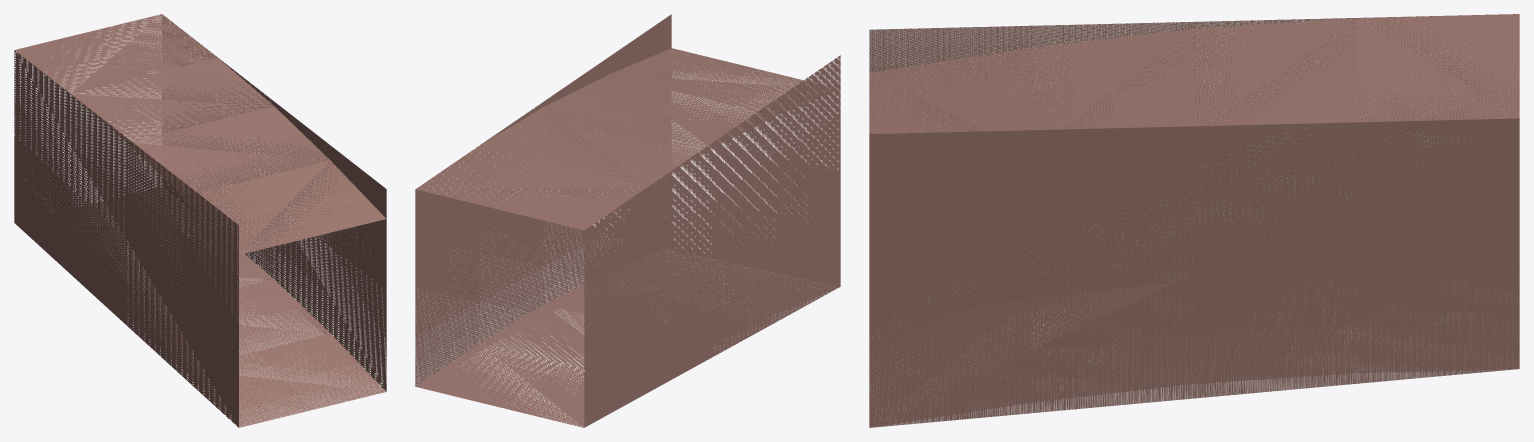
File: SW_ENV_RailTunnel_Riser_B_Single_10m_Collision.fbx
The picture shows the model from 3 angles, left to right: view 1: azimuth 30°, elevation 25°; view 2: azimuth 150°, elevation 25°; view 3: azimuth 270°, elevation 25°; orthographic projection. The views are drawn at different scales.
Visible parts, largest first — view 1: SW_ENV_RailTunnel_Riser_B_Single_10m_Collision; view 2: SW_ENV_RailTunnel_Riser_B_Single_10m_Collision; view 3: SW_ENV_RailTunnel_Riser_B_Single_10m_Collision.
Boxes of the visible parts, bbox=[...] form: SW_ENV_RailTunnel_Riser_B_Single_10m_Collision: bbox=[14, 14, 386, 427]; SW_ENV_RailTunnel_Riser_B_Single_10m_Collision: bbox=[415, 14, 840, 427]; SW_ENV_RailTunnel_Riser_B_Single_10m_Collision: bbox=[869, 14, 1519, 427].
Size of the model in its own units: 380 by 525 by 1000.
